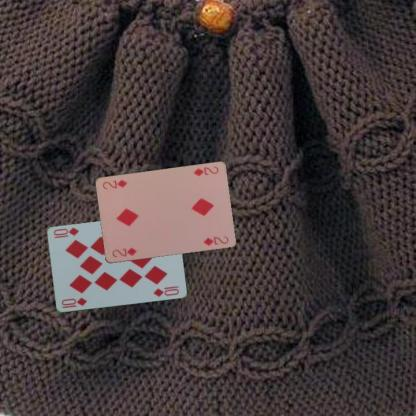10d: (59, 296, 88, 308)
2d: (109, 245, 138, 259), (191, 164, 220, 178)
